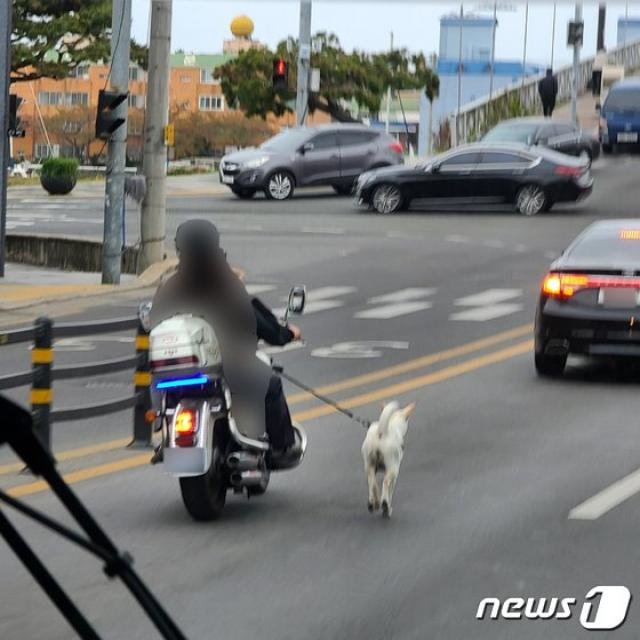dog: (321, 375, 436, 521)
